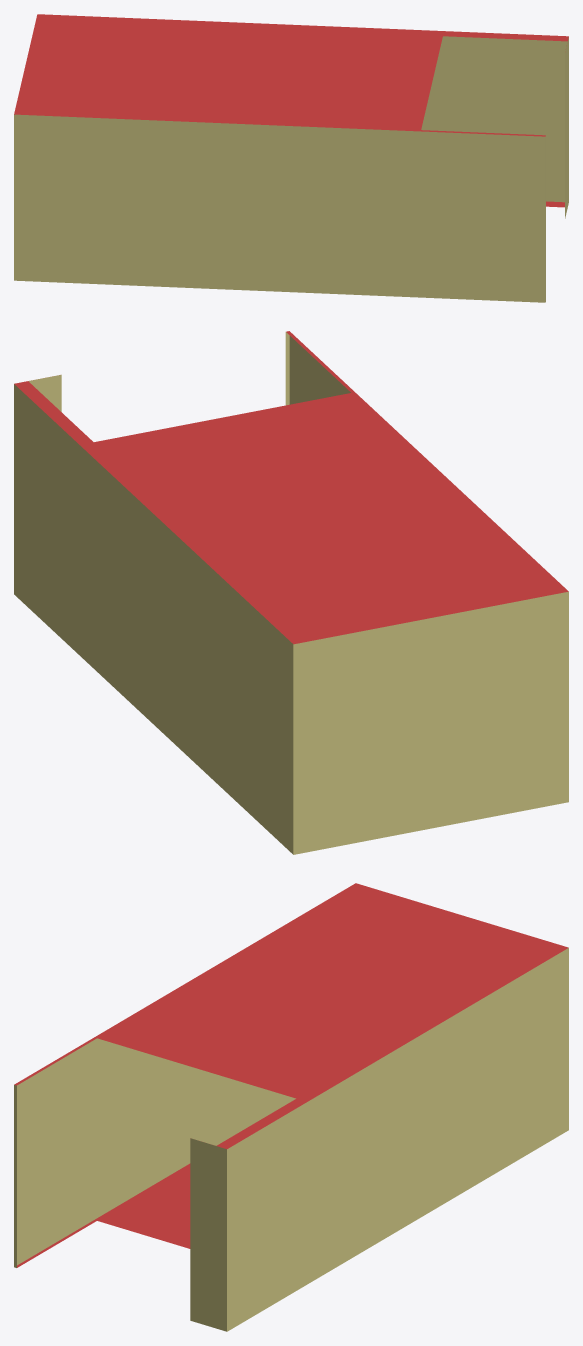
3 renders of one model, top to bottom at view 1: azimuth 30°, elevation 25°; view 2: azimuth 150°, elevation 25°; view 3: azimuth 270°, elevation 25°, orthographic. The views are drawn at different scales.
Size of the model in its own units: 23.42 by 20.64 by 7.49.
